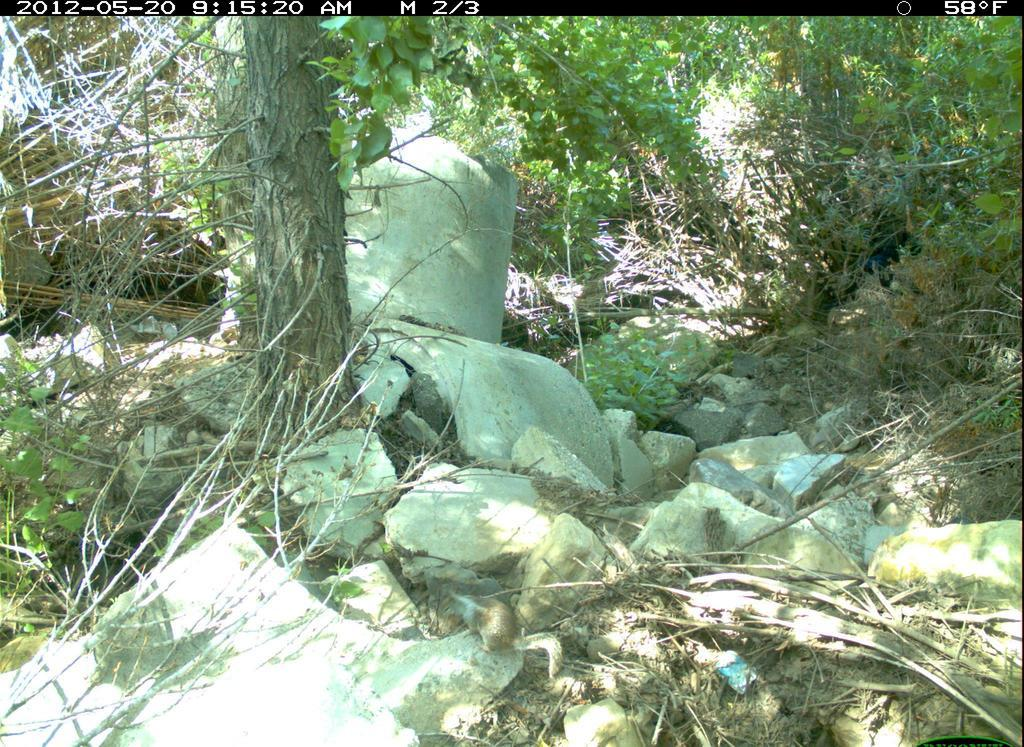squirrel: (437, 578, 570, 685)
